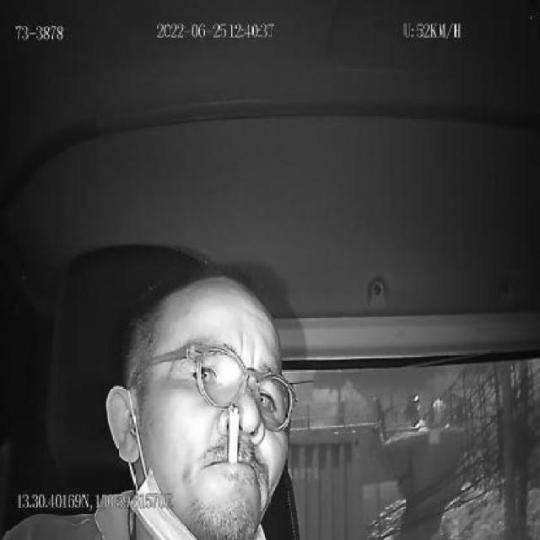smoking: (225, 399, 243, 467)
